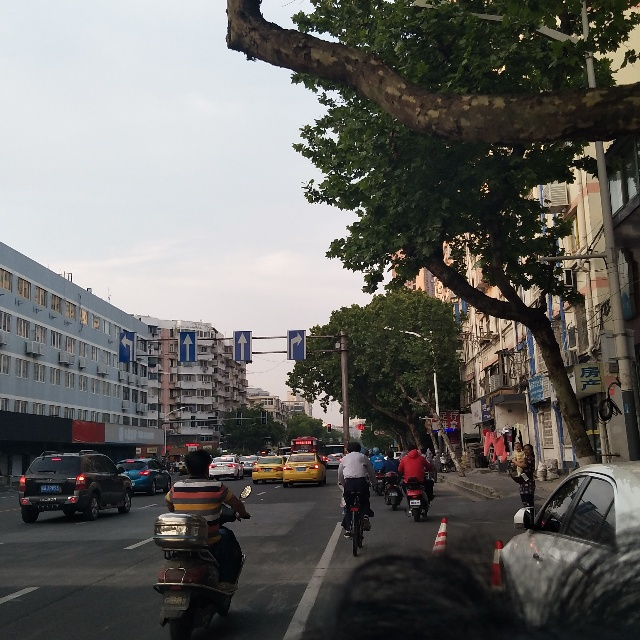left: (117, 332, 138, 363)
right: (289, 330, 307, 360)
straight: (178, 330, 196, 363), (232, 331, 251, 361)
